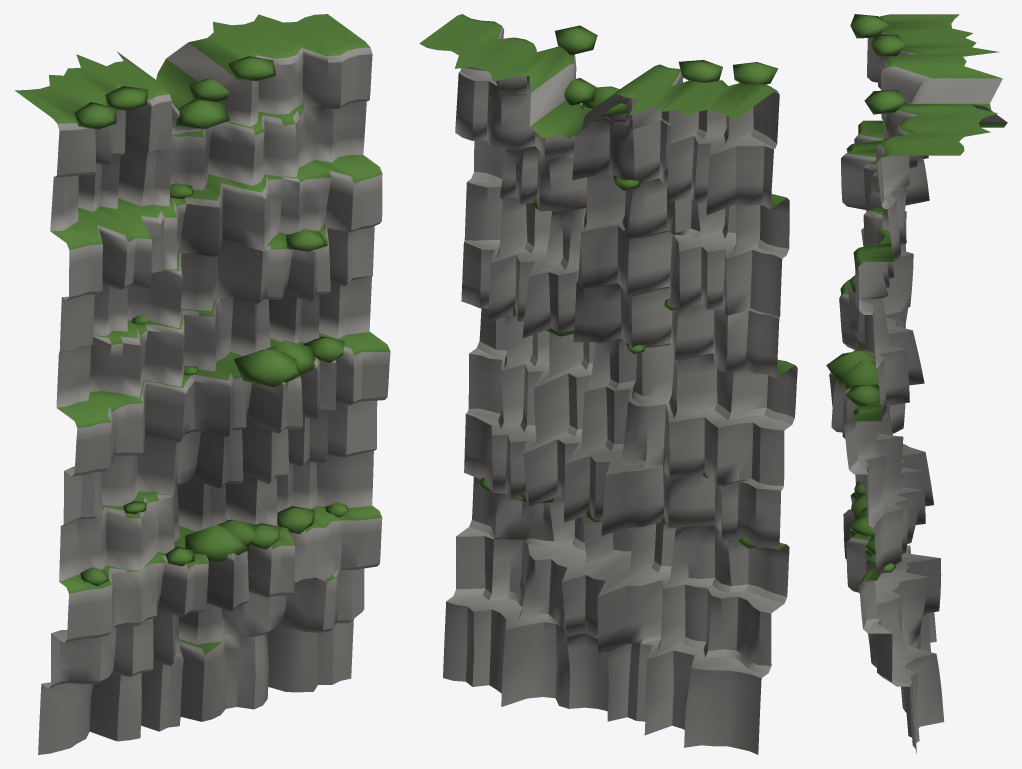
Rendered from cliff_notch_75.glb.
3 views of the same model, side by side, from view 1: azimuth 30°, elevation 25°; view 2: azimuth 150°, elevation 25°; view 3: azimuth 270°, elevation 25° (orthographic). The views are drawn at different scales.
Visible parts, largest first — view 1: cliff_notch_75; view 2: cliff_notch_75; view 3: cliff_notch_75.
Part boxes in pixels (left/top/right/bottom): cliff_notch_75: left=15, top=14, right=390, bottom=754; cliff_notch_75: left=419, top=14, right=797, bottom=754; cliff_notch_75: left=826, top=14, right=1007, bottom=753.
Bounding box in the file's own units: 40 × 80.53 × 21.71.
